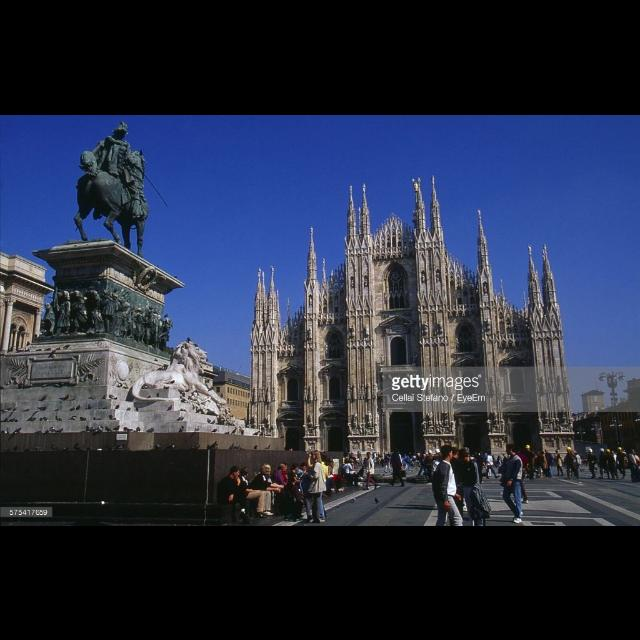head: (424, 448, 434, 478), (441, 444, 454, 460), (230, 466, 242, 480), (506, 444, 518, 456), (460, 449, 470, 463), (451, 447, 462, 459), (262, 464, 272, 474), (311, 450, 321, 460), (312, 450, 321, 460), (264, 464, 272, 474), (289, 478, 297, 487), (242, 466, 250, 474), (567, 446, 573, 454), (588, 448, 594, 456), (366, 452, 372, 458), (476, 453, 482, 459), (516, 446, 522, 452), (606, 450, 612, 456), (394, 449, 398, 455), (488, 452, 494, 456), (526, 445, 530, 451), (600, 449, 604, 455), (546, 449, 550, 453), (554, 450, 558, 454), (632, 450, 636, 454), (619, 448, 623, 452), (543, 450, 547, 454), (485, 452, 487, 456), (360, 452, 362, 454)
person: (498, 442, 528, 526), (298, 448, 328, 526), (246, 461, 286, 517), (232, 463, 270, 521), (253, 462, 287, 514), (308, 448, 329, 524), (276, 474, 306, 524), (510, 443, 530, 505), (388, 447, 408, 488), (362, 452, 380, 492), (483, 452, 502, 481), (522, 443, 536, 481), (596, 447, 612, 479), (604, 449, 620, 481), (474, 450, 488, 486), (585, 447, 599, 479), (627, 448, 639, 484), (617, 446, 629, 480), (564, 446, 576, 478), (542, 447, 554, 477), (552, 448, 564, 478), (424, 448, 434, 478), (540, 449, 550, 478), (482, 450, 492, 478), (355, 450, 363, 466)
